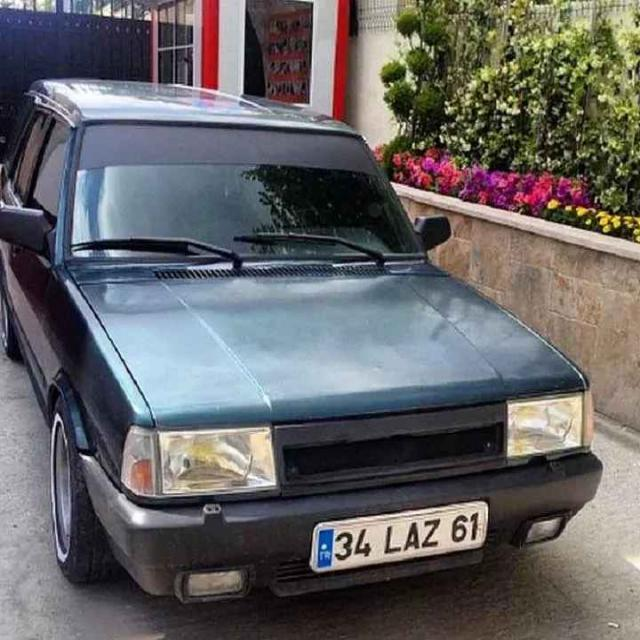plate: (309, 494, 491, 580)
